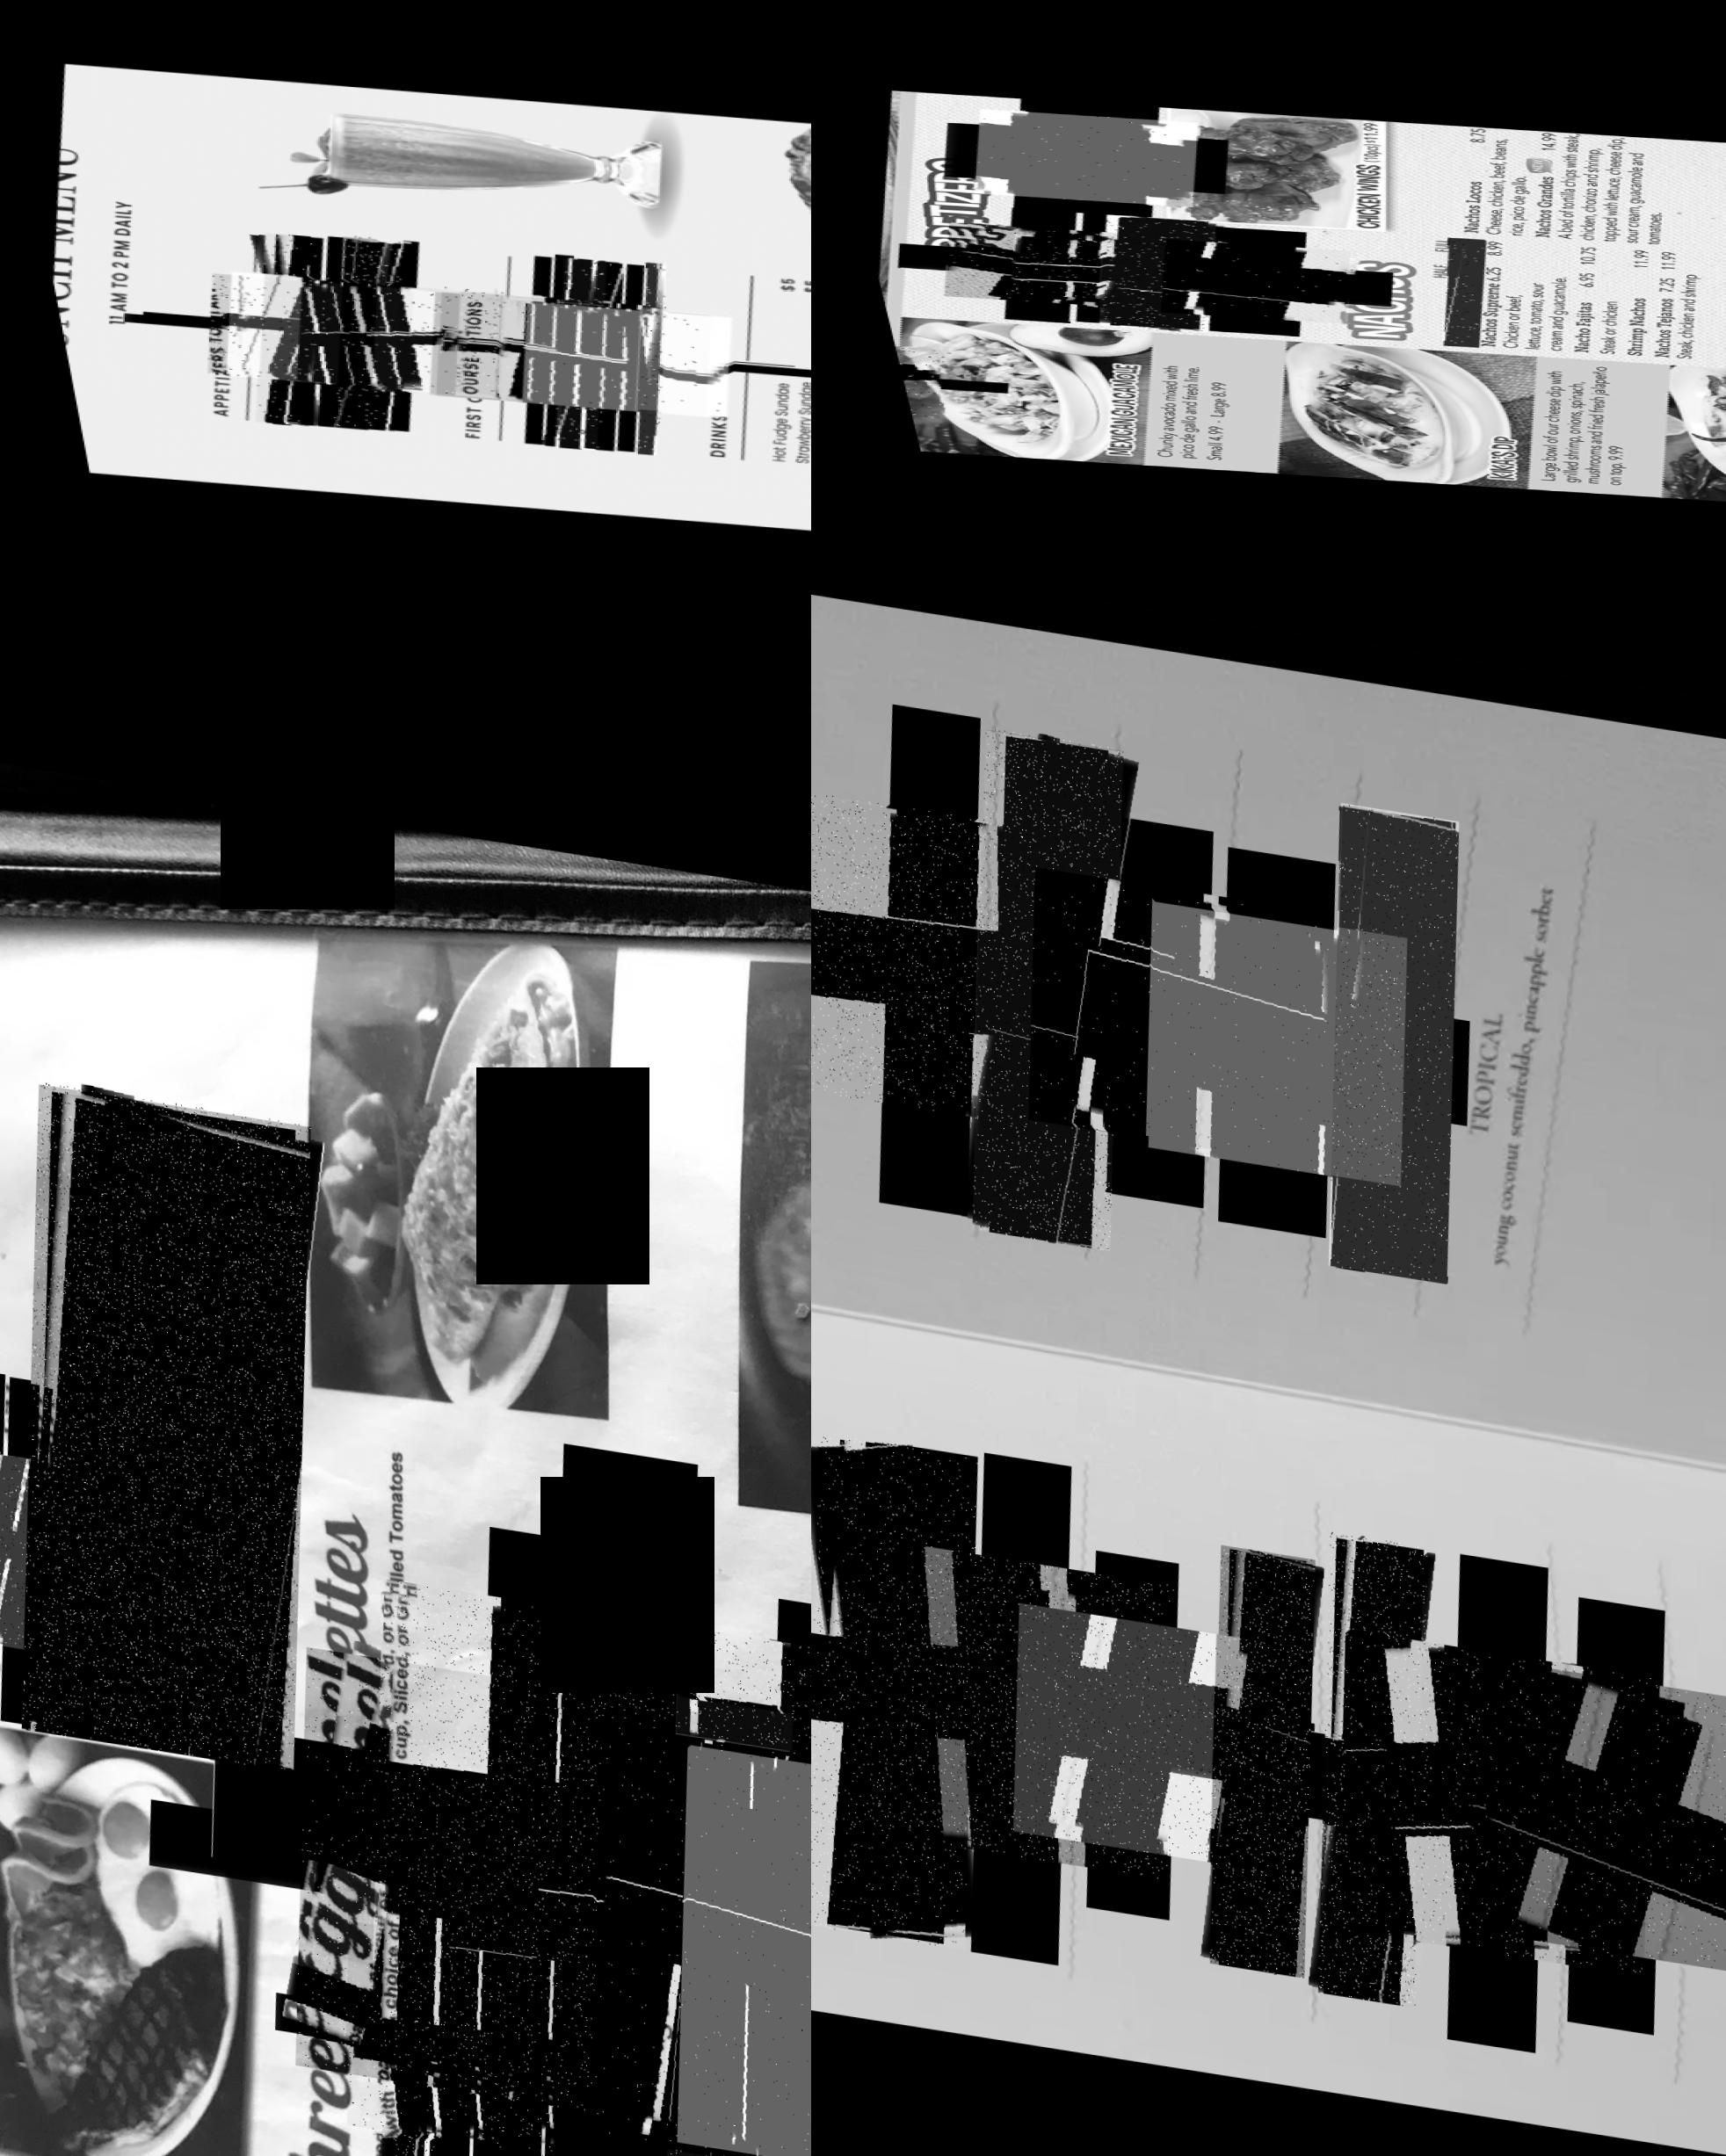Menu-Items: (305, 1572, 812, 2123), (232, 1640, 741, 2126), (0, 1075, 349, 1769), (527, 1711, 812, 2156), (1293, 1619, 1656, 1968), (921, 718, 1159, 1244), (819, 1531, 1176, 1873), (583, 1683, 812, 2156), (1280, 792, 1490, 1276), (812, 781, 1104, 1126), (812, 1424, 997, 1945), (1427, 1646, 1726, 1964), (1256, 1521, 1444, 1999), (1000, 859, 1303, 1149), (1118, 889, 1420, 1177), (1413, 845, 1610, 1285), (618, 1735, 812, 2156), (1150, 1535, 1328, 1971), (970, 1596, 1249, 1860), (299, 1915, 548, 2152), (324, 1878, 439, 2156), (398, 285, 650, 408), (266, 273, 516, 394), (470, 292, 720, 414), (195, 269, 446, 389), (1425, 356, 1650, 484), (424, 289, 669, 407), (497, 296, 740, 414), (176, 271, 417, 387), (0, 1434, 118, 1660), (949, 107, 1208, 206), (210, 231, 336, 424), (509, 253, 631, 449), (1055, 345, 1243, 465), (1497, 128, 1687, 245), (310, 234, 423, 429), (289, 231, 398, 428), (1062, 213, 1228, 331), (916, 220, 1141, 306), (592, 259, 690, 452), (1132, 238, 1358, 322), (0, 1434, 83, 1651), (1437, 229, 1583, 350), (1425, 123, 1546, 238), (1613, 236, 1719, 363), (1525, 241, 1641, 356), (988, 232, 1171, 301), (1404, 234, 1495, 345), (1580, 243, 1664, 357), (877, 345, 939, 417)
